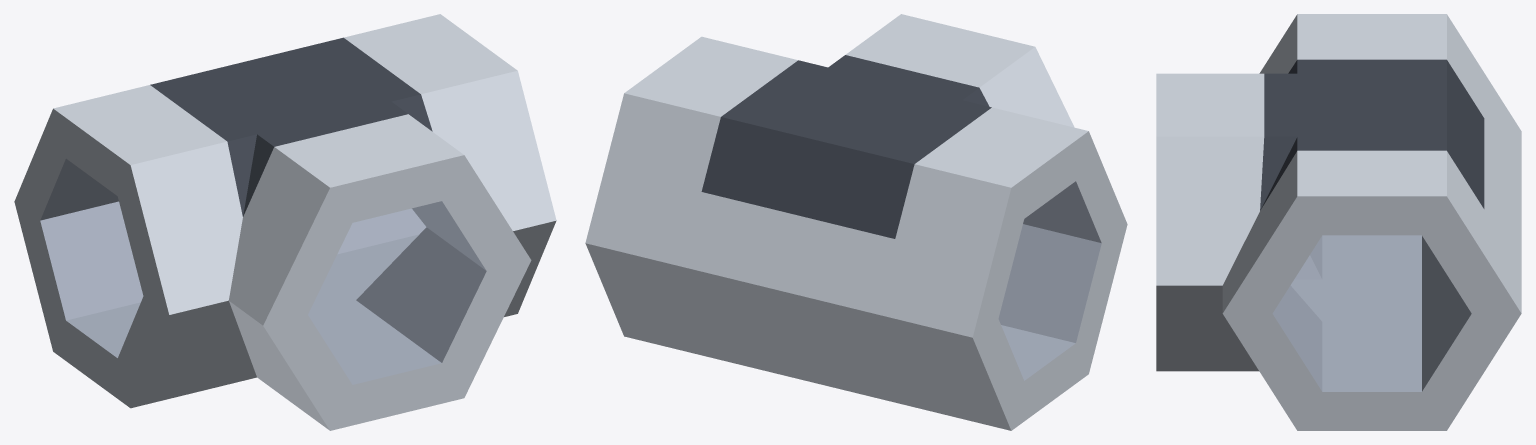
The model's file is pipe_split.dae.
The picture shows the model from 3 angles, left to right: view 1: azimuth 30°, elevation 25°; view 2: azimuth 150°, elevation 25°; view 3: azimuth 270°, elevation 25°; orthographic projection. The views are drawn at different scales.
Parts seen in each view (by area): view 1: pipe_split; view 2: pipe_split; view 3: pipe_split.
Boxes of the visible parts, x1=… form: pipe_split: x1=14, y1=14, x2=556, y2=430; pipe_split: x1=585, y1=14, x2=1127, y2=430; pipe_split: x1=1156, y1=14, x2=1521, y2=430.
Size of the model in its own units: 1 by 0.6 by 0.8464.
